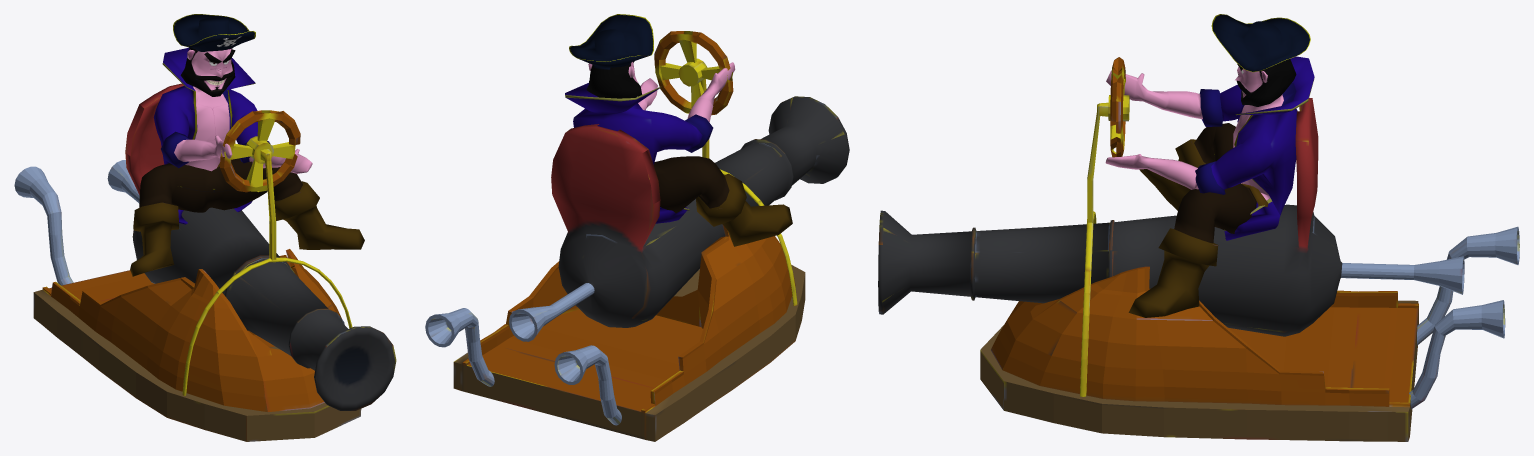
Rendered from pirataGiroDER_000325.obj.
3 renders of one model, left to right at view 1: azimuth 30°, elevation 25°; view 2: azimuth 150°, elevation 25°; view 3: azimuth 270°, elevation 25°, orthographic. The views are drawn at different scales.
Parts seen in each view (by area): view 1: carro_pirata, Pirata_PirataH; view 2: carro_pirata, Pirata_PirataH; view 3: carro_pirata, Pirata_PirataH.
Boxes of the visible parts, <box> form: carro_pirata: <box>14,83,396,441</box>; Pirata_PirataH: <box>130,14,364,276</box>; carro_pirata: <box>425,31,849,441</box>; Pirata_PirataH: <box>565,14,792,246</box>; carro_pirata: <box>878,57,1519,441</box>; Pirata_PirataH: <box>1105,14,1314,317</box>.
Bounding box in the file's own units: 5.65 × 7.68 × 12.1.
Materials: 2 (2 with a texture image).
